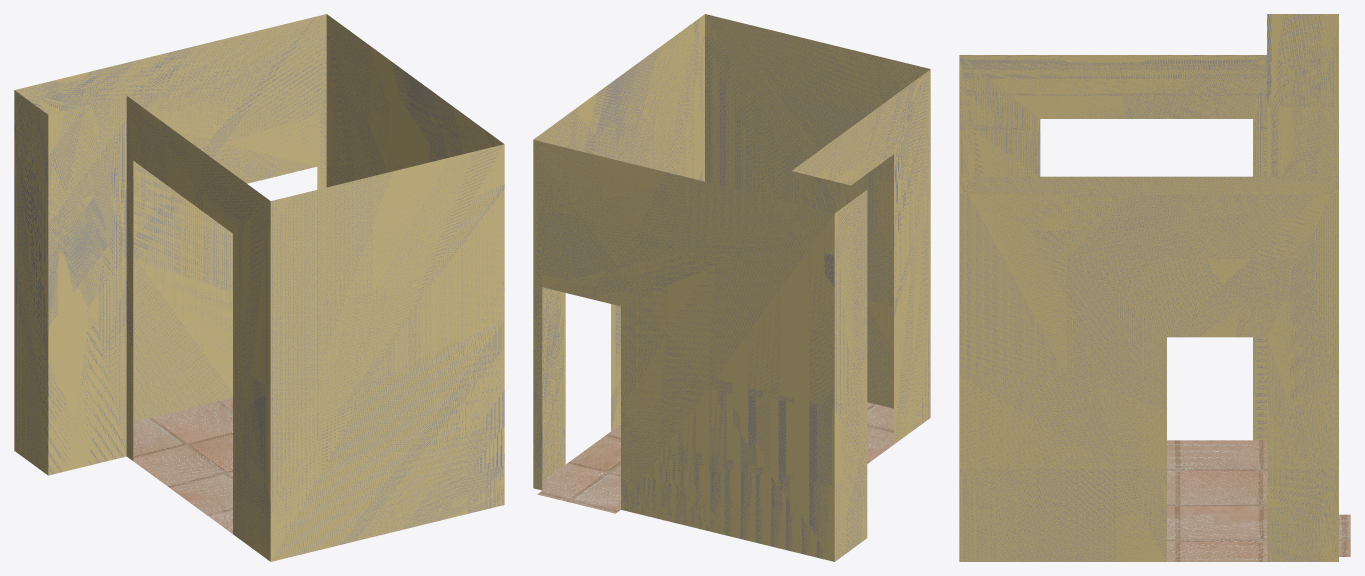
The model's file is COM011.obj.
3 views of the same model, side by side, from view 1: azimuth 30°, elevation 25°; view 2: azimuth 150°, elevation 25°; view 3: azimuth 270°, elevation 25° (orthographic). The views are drawn at different scales.
Visible parts, largest first — view 1: Mesh1 COM11 Model; view 2: Mesh1 COM11 Model; view 3: Mesh1 COM11 Model.
Boxes of the visible parts, bbox=[...] form: Mesh1 COM11 Model: bbox=[14, 14, 504, 561]; Mesh1 COM11 Model: bbox=[533, 14, 930, 561]; Mesh1 COM11 Model: bbox=[959, 14, 1350, 561].
Bounding box in the file's own units: 3.26 × 3.6 × 3.32.
4 materials, 2 textured.
